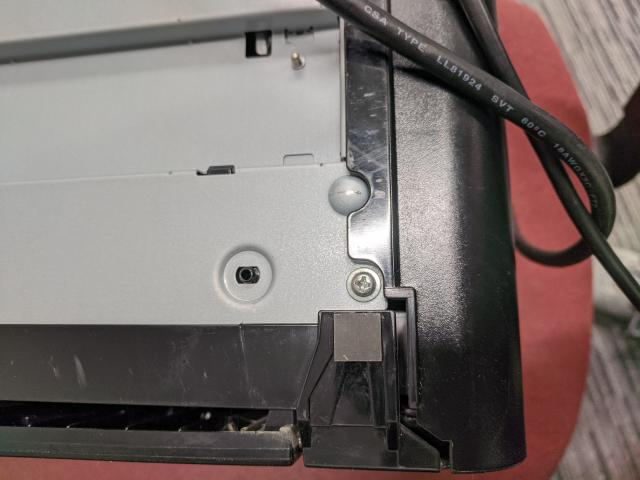CRS: (351, 271, 377, 299)
